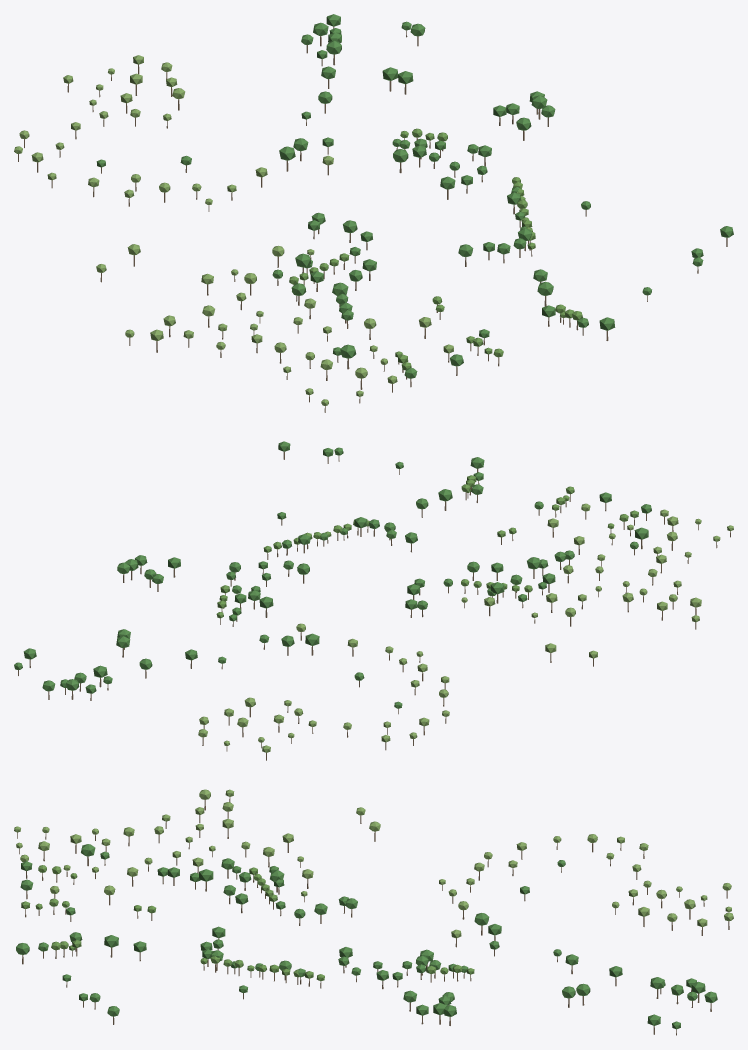
File: VEG_PONTOS.001.fbx
3 renders of one model, top to bottom at view 1: azimuth 30°, elevation 25°; view 2: azimuth 150°, elevation 25°; view 3: azimuth 270°, elevation 25°, orthographic. The views are drawn at different scales.
Parts seen in each view (by area): view 1: VEG_ARVORES_OSM_pontos.001, VEG_ARVORES_PROPOSTAS_pontos, VEG_ARVORES_FILEIRAS_pontos; view 2: VEG_ARVORES_OSM_pontos.001, VEG_ARVORES_PROPOSTAS_pontos, VEG_ARVORES_FILEIRAS_pontos; view 3: VEG_ARVORES_OSM_pontos.001, VEG_ARVORES_PROPOSTAS_pontos, VEG_ARVORES_FILEIRAS_pontos.
Boxes of the visible parts, <box> form: VEG_ARVORES_OSM_pontos.001: <box>96,14,733,387</box>; VEG_ARVORES_PROPOSTAS_pontos: <box>14,55,453,412</box>; VEG_ARVORES_FILEIRAS_pontos: <box>289,128,582,379</box>; VEG_ARVORES_OSM_pontos.001: <box>14,441,651,714</box>; VEG_ARVORES_PROPOSTAS_pontos: <box>198,503,733,760</box>; VEG_ARVORES_FILEIRAS_pontos: <box>216,475,638,624</box>; VEG_ARVORES_OSM_pontos.001: <box>16,844,717,1035</box>; VEG_ARVORES_PROPOSTAS_pontos: <box>14,789,733,947</box>; VEG_ARVORES_FILEIRAS_pontos: <box>21,865,474,988</box>.
Size of the model in its own units: 320 by 21.35 by 407.
